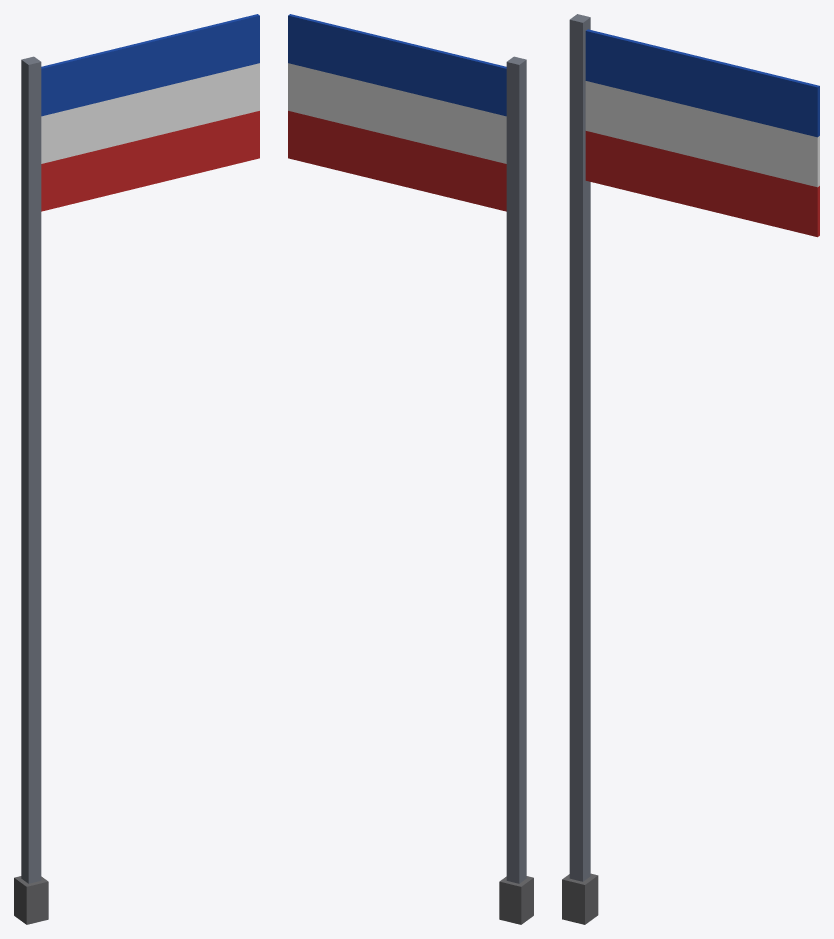
Rendered from Asta.obj.
3 views of the same model, side by side, from view 1: azimuth 30°, elevation 25°; view 2: azimuth 150°, elevation 25°; view 3: azimuth 330°, elevation 25° (orthographic). The views are drawn at different scales.
Parts seen in each view (by area): view 1: Asta; view 2: Asta; view 3: Asta.
Boxes of the visible parts, x1,y1,x2,y2 form: Asta: (14, 14, 259, 924); Asta: (288, 14, 533, 924); Asta: (562, 14, 819, 924).
Size of the model in its own units: 2.62 by 9 by 0.24.
1 material, 1 textured.
